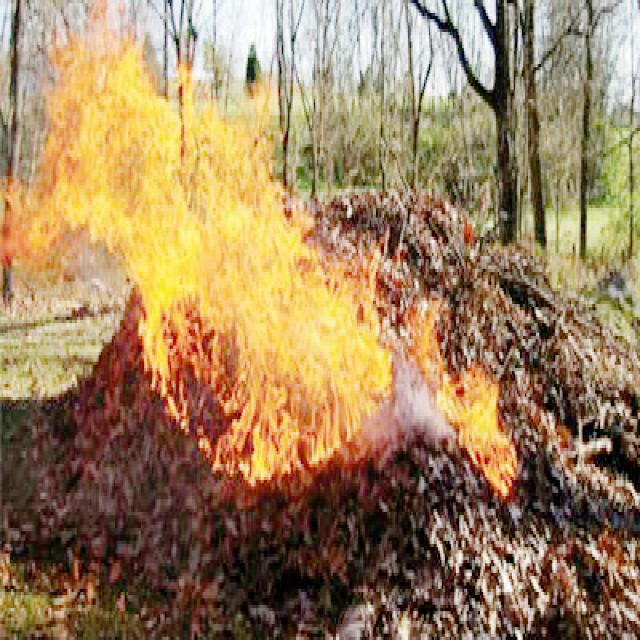api: (1, 1, 529, 511)
